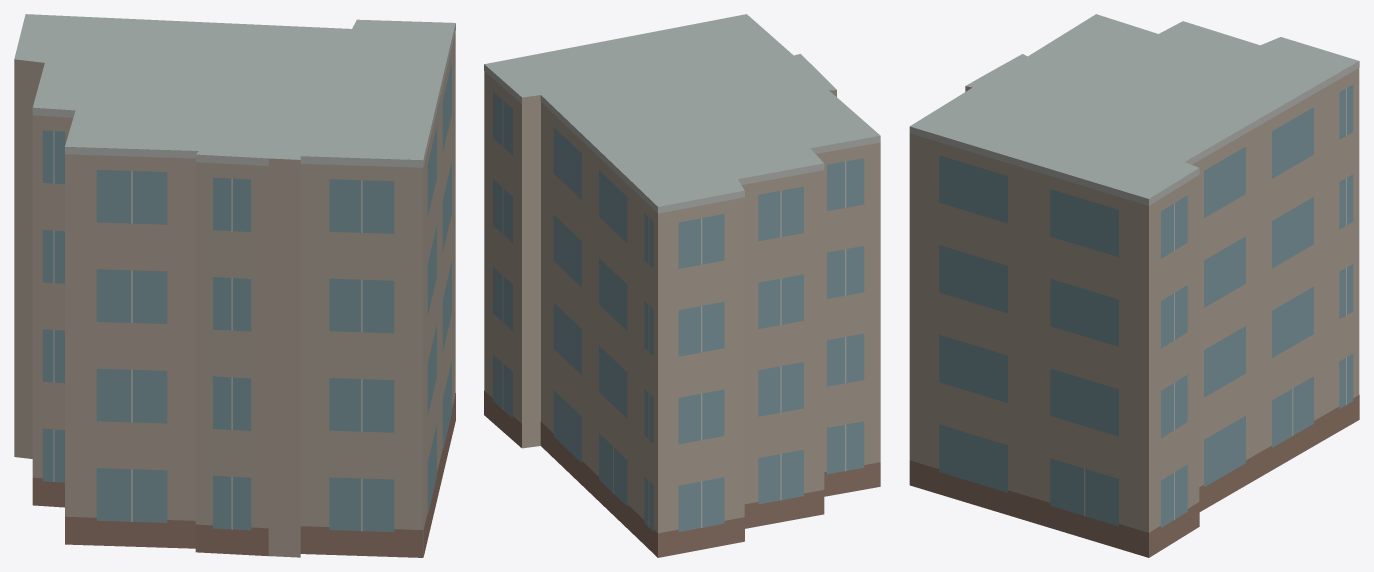
File: survey-upis-32654267.glb
The picture shows the model from 3 angles, left to right: view 1: azimuth 30°, elevation 25°; view 2: azimuth 150°, elevation 25°; view 3: azimuth 270°, elevation 25°; orthographic projection. The views are drawn at different scales.
Parts seen in each view (by area): view 1: survey-upis-32654267.tmp; view 2: survey-upis-32654267.tmp; view 3: survey-upis-32654267.tmp.
Part boxes in pixels (bbox=[...]): survey-upis-32654267.tmp: bbox=[14, 14, 455, 557]; survey-upis-32654267.tmp: bbox=[484, 14, 880, 557]; survey-upis-32654267.tmp: bbox=[909, 14, 1359, 557].
Bounding box in the file's own units: 14.16 × 12.8 × 14.55.
